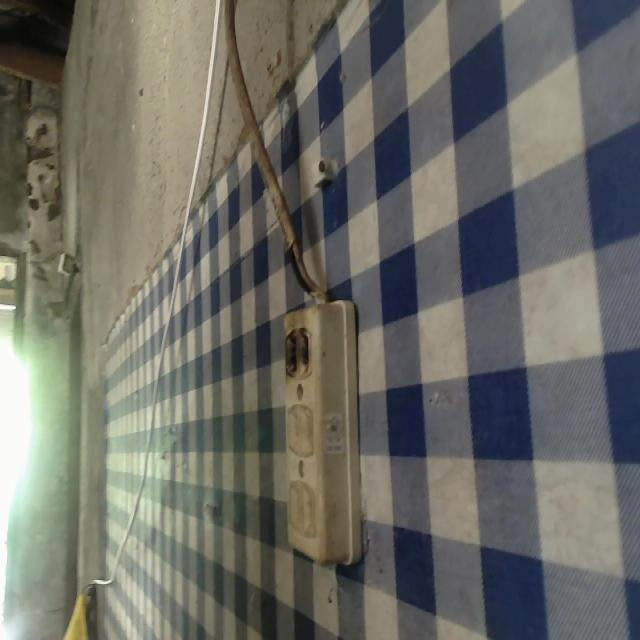-: (284, 328, 312, 381)
